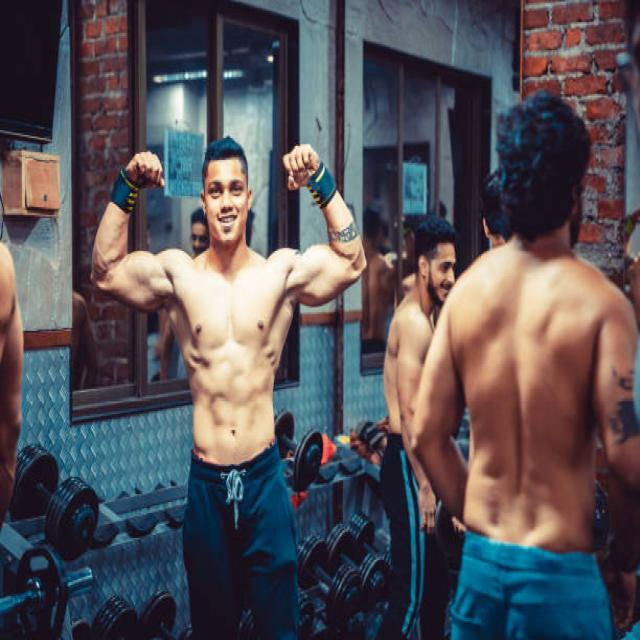no_helmet: (481, 170, 587, 280), (193, 197, 264, 250), (410, 247, 449, 308)
